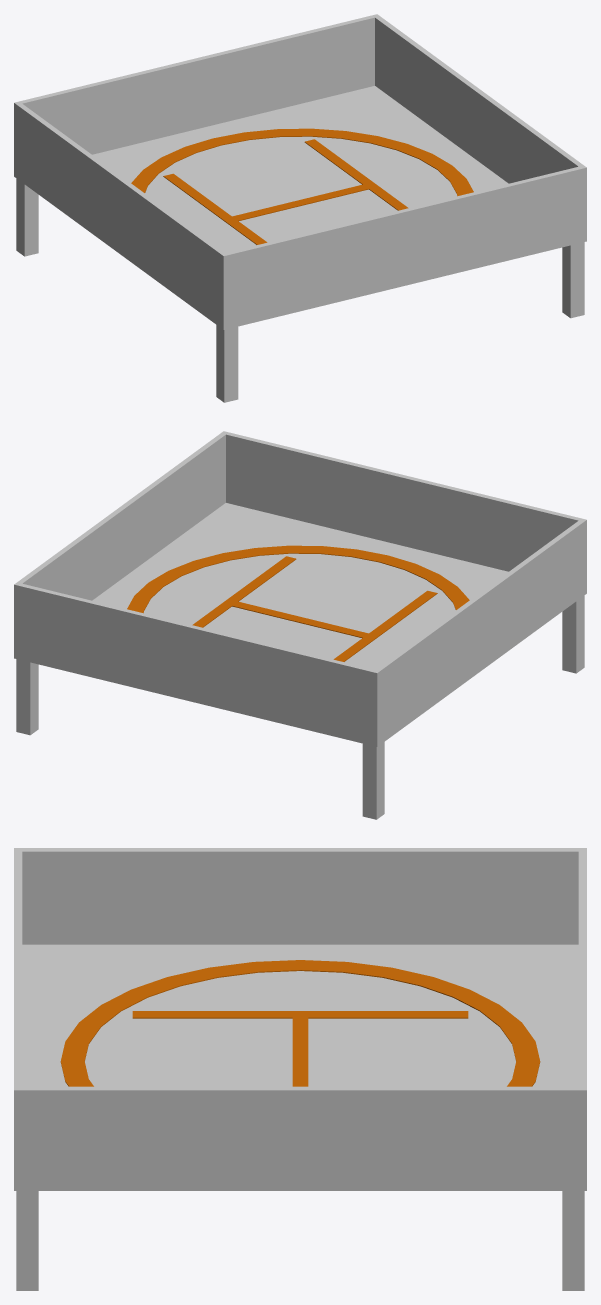
The model's file is dronePonto.dae.
The picture shows the model from 3 angles, top to bottom: view 1: azimuth 30°, elevation 25°; view 2: azimuth 150°, elevation 25°; view 3: azimuth 270°, elevation 25°; orthographic projection. The views are drawn at different scales.
Parts seen in each view (by area): view 1: Cube; view 2: Cube; view 3: Cube.
Part boxes in pixels (bbox=[...]): Cube: bbox=[14, 14, 586, 402]; Cube: bbox=[14, 431, 586, 819]; Cube: bbox=[14, 848, 586, 1290].
Size of the model in its own units: 0.5148 by 0.5148 by 0.2.
